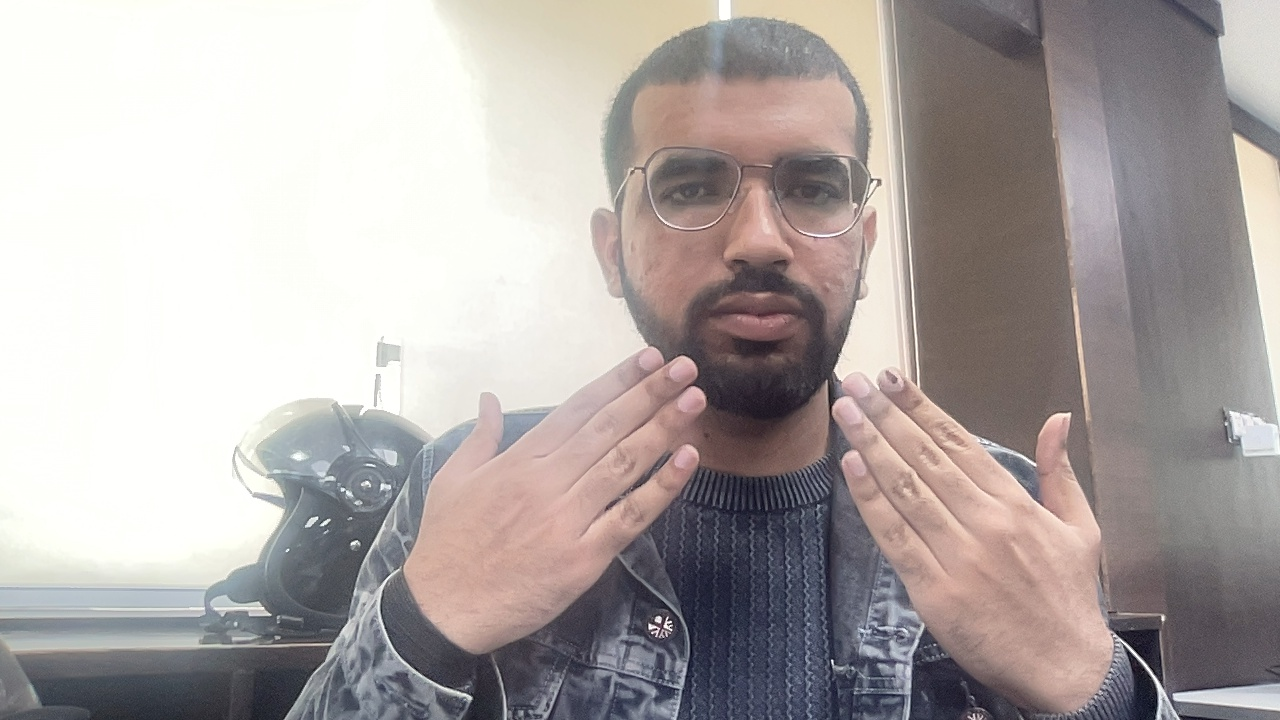Thank You: (258, 304, 1181, 672)
